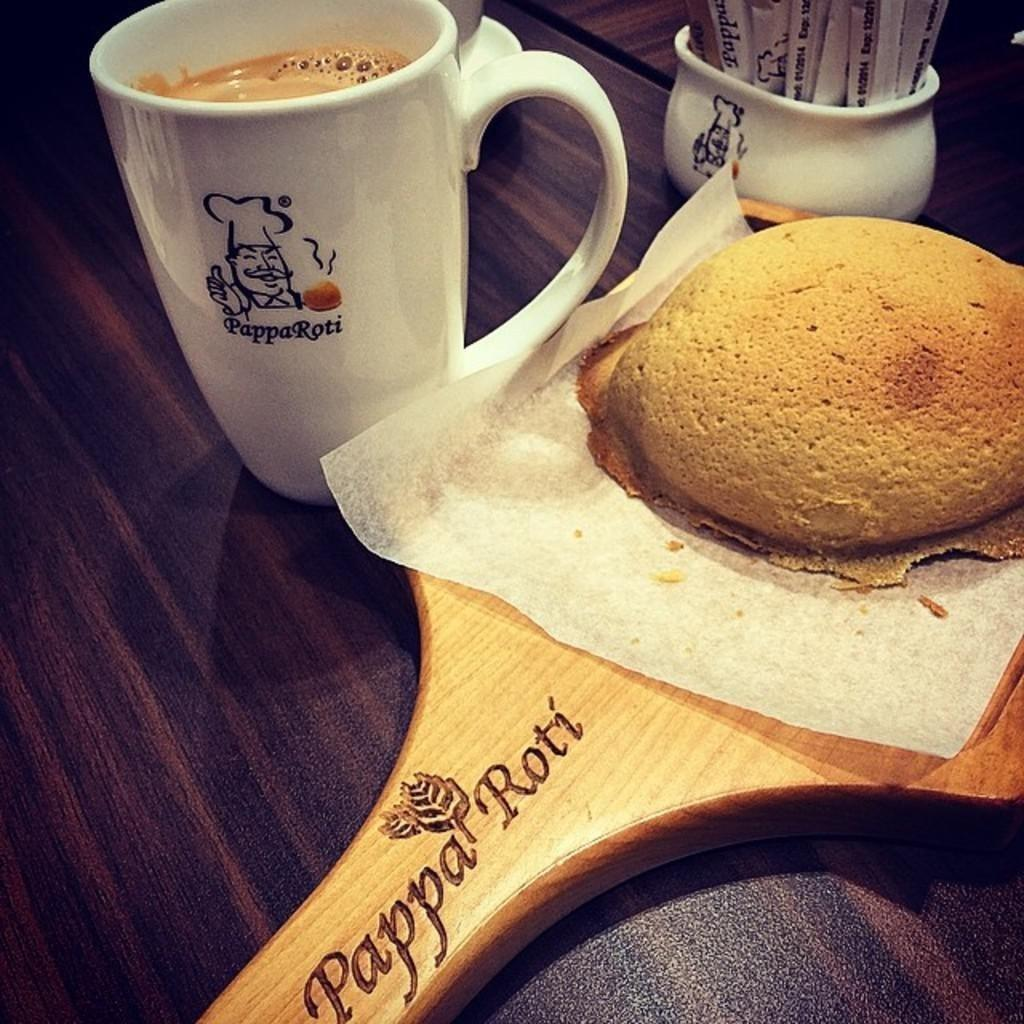cup-handle: (85, 0, 628, 506)
